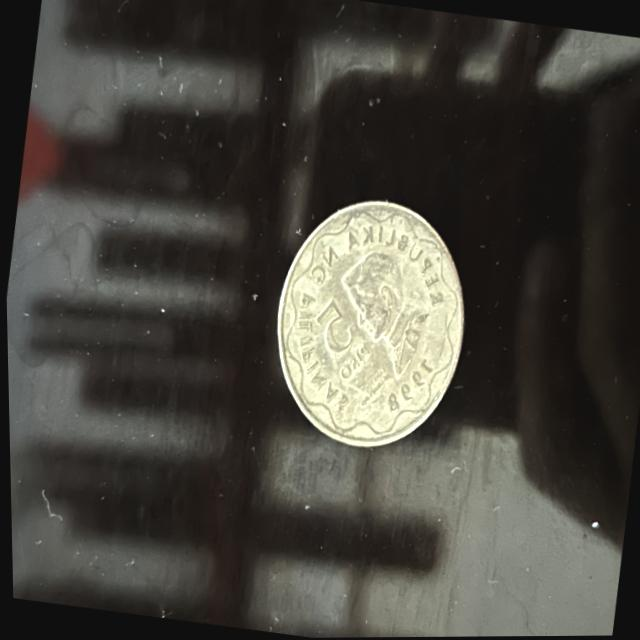5_Old_Front: (287, 214, 463, 433)
